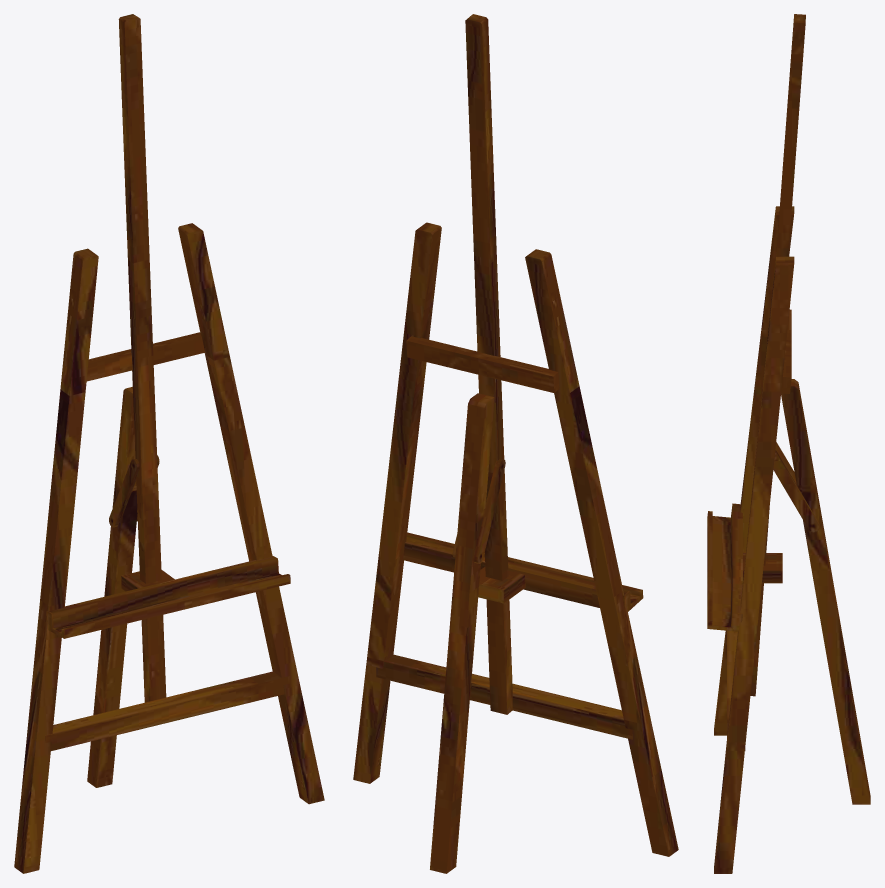
The model's file is painting-easel.glb.
The picture shows the model from 3 angles, left to right: view 1: azimuth 30°, elevation 25°; view 2: azimuth 150°, elevation 25°; view 3: azimuth 270°, elevation 25°; orthographic projection. The views are drawn at different scales.
Parts seen in each view (by area): view 1: painting_easel; view 2: painting_easel; view 3: painting_easel.
Part boxes in pixels (x1=…): painting_easel: x1=14, y1=14, x2=324, y2=873; painting_easel: x1=353, y1=14, x2=678, y2=873; painting_easel: x1=707, y1=14, x2=870, y2=873.
Size of the model in its own units: 2.5 by 6.24 by 1.18.
1 material, 1 textured.
